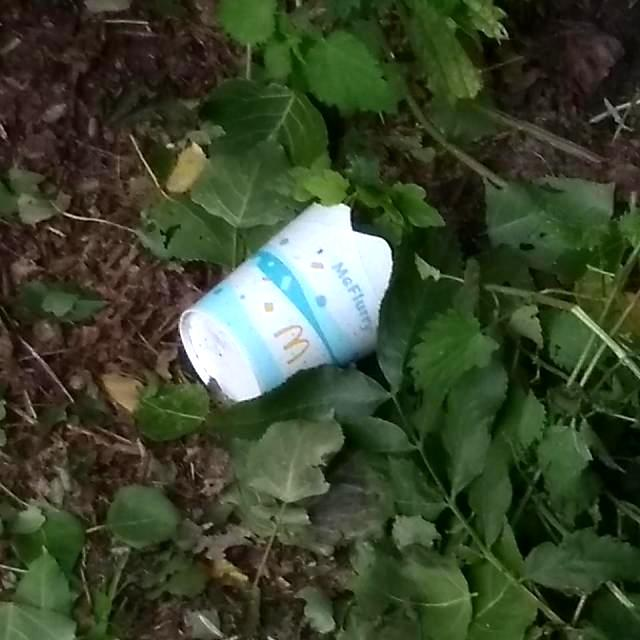Paper: (175, 198, 395, 404)
